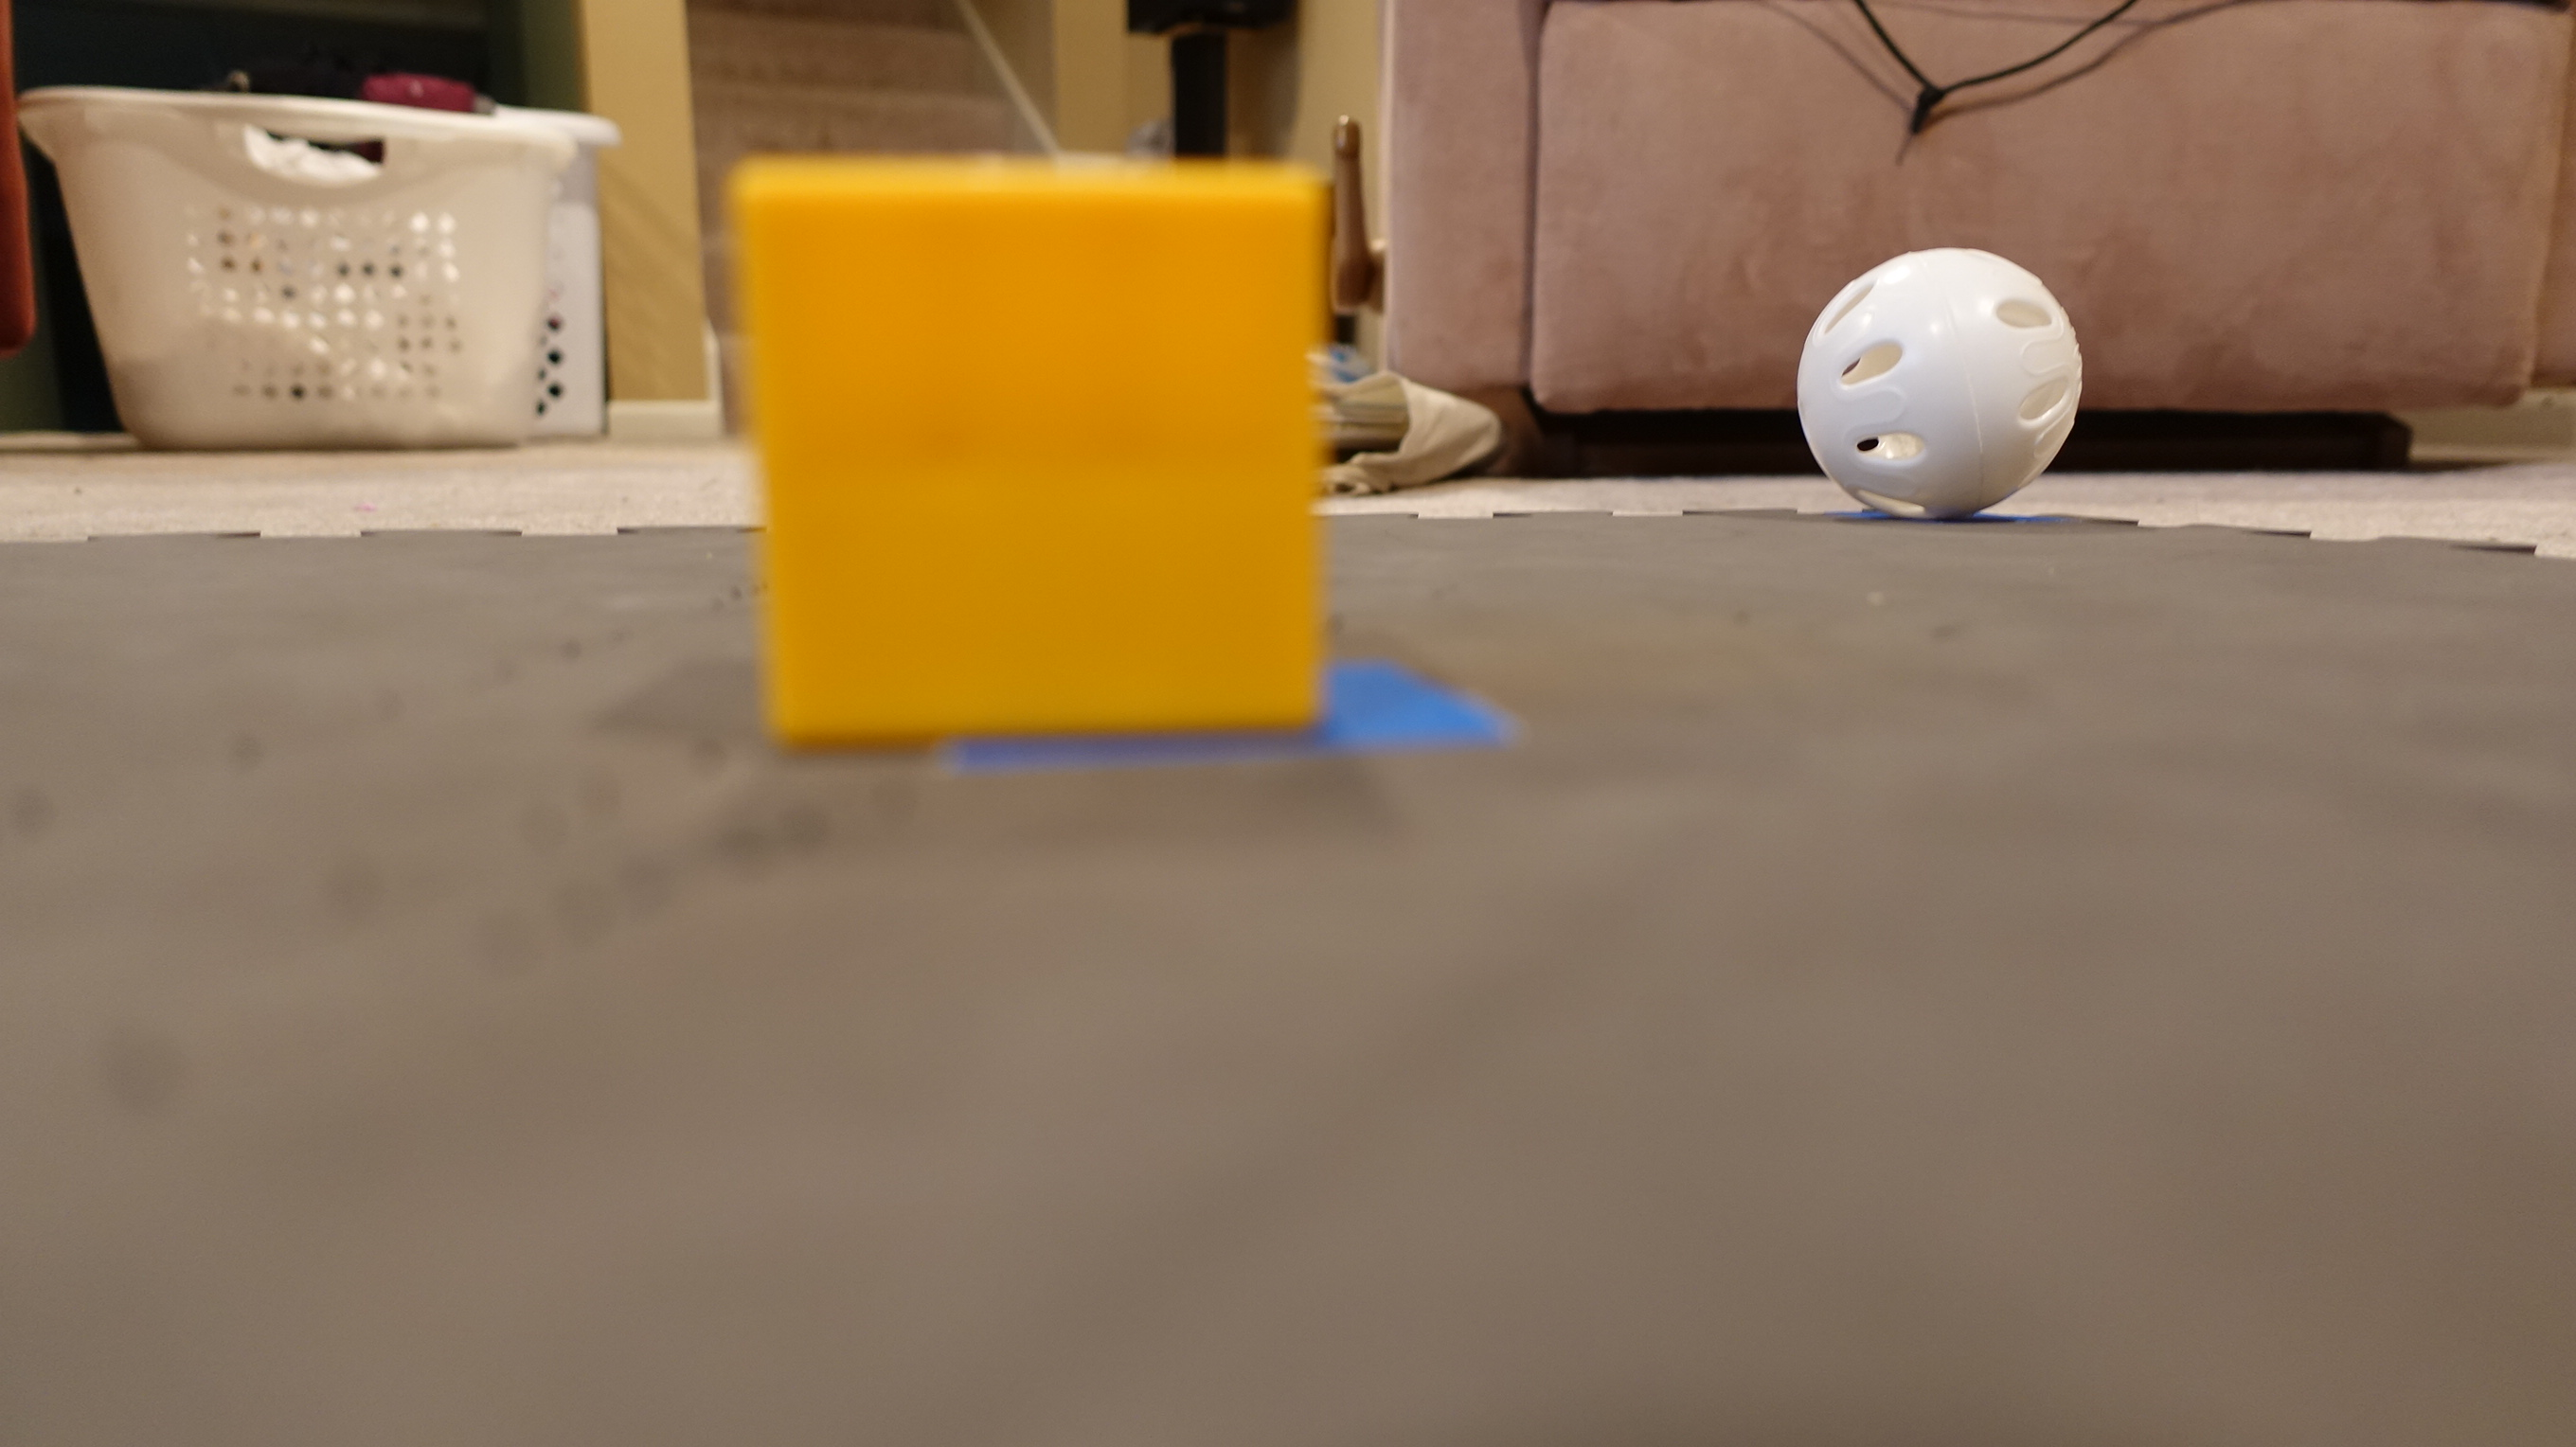gold: (697, 131, 1387, 761)
silver: (1787, 249, 2086, 518)
